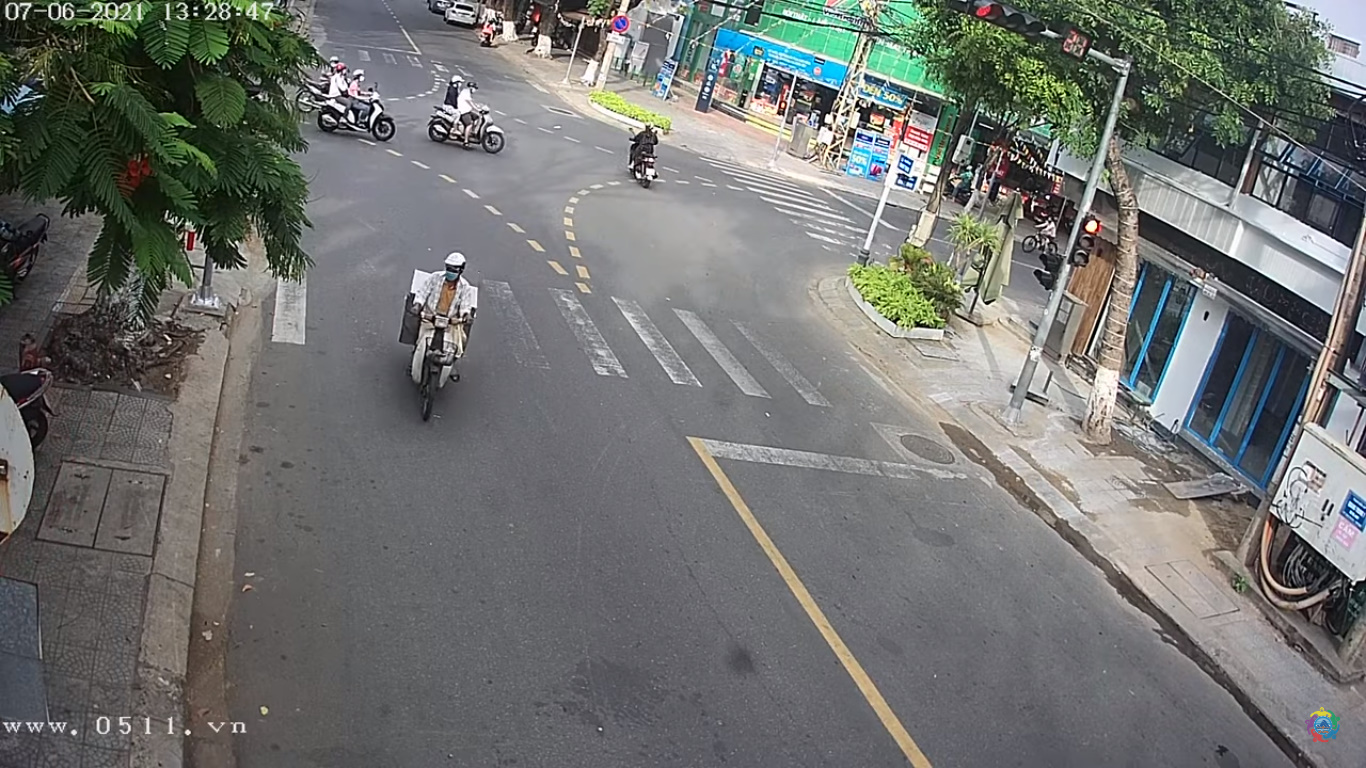car: (446, 3, 486, 28)
motorbike: (402, 253, 482, 417)
